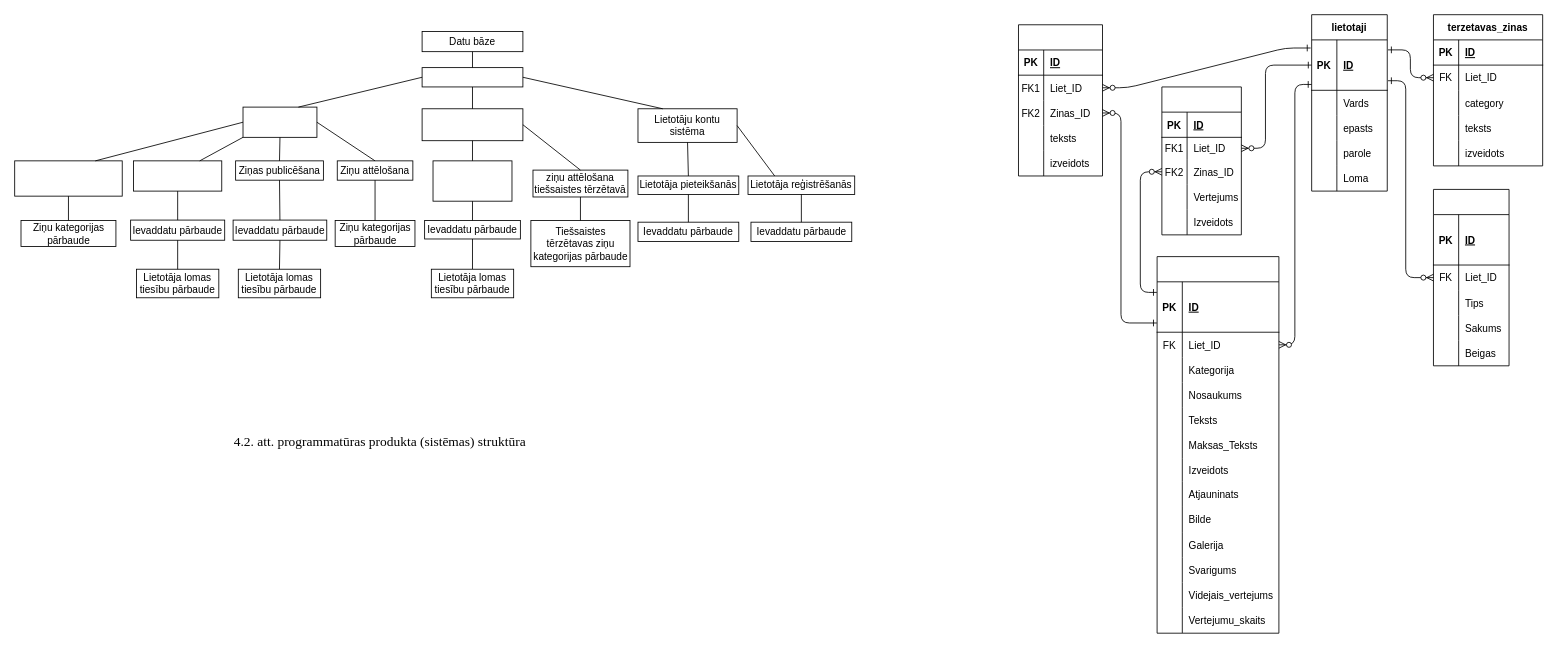
Some shapes in this 1557 by 648 pixel diagram are drawn without their labels. The shapes that lost their labels are listed below. From the top down, each one's box as (x1, y1, x2, y2) in pixels, then its label:
(421, 67, 523, 87): Ziņu portāls
(1018, 24, 1102, 176): atsauksmes
(242, 106, 317, 137): Publicēto ziņu sistēma
(421, 108, 523, 141): Tiešsaistes tērzētavu sistēma
(14, 160, 122, 196): Ziņas atsauksmju attēlošana
(133, 160, 222, 191): Ziņas atsauksmju publicēšana
(432, 160, 512, 201): Tiešsaistes tērzētavas ziņu publicēšana
(1161, 86, 1241, 235): zinu_vertejumi
(1433, 189, 1509, 366): abonementi
(1156, 256, 1279, 633): zinas
